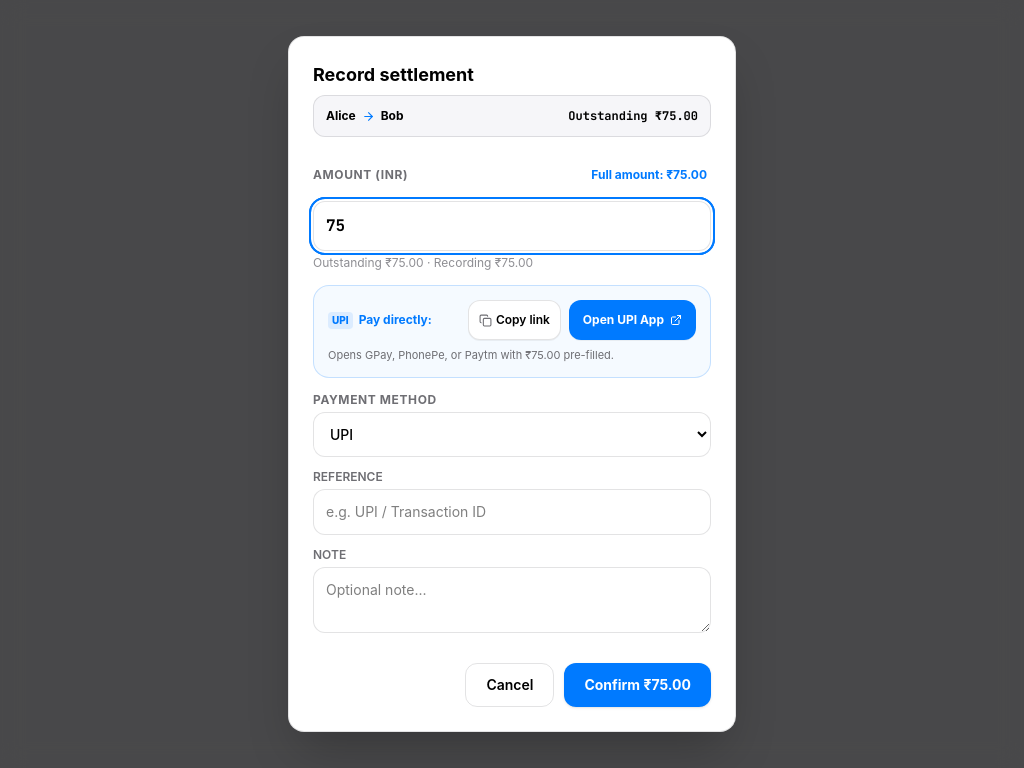
Test: SettlementDialog Interactive Tests › clicking 'Full amount' button restores full outstanding value and clears errors
Note: Trigger error
Clear the field labelled "Amount (INR)" at (512, 226), box [313,201,711,251]
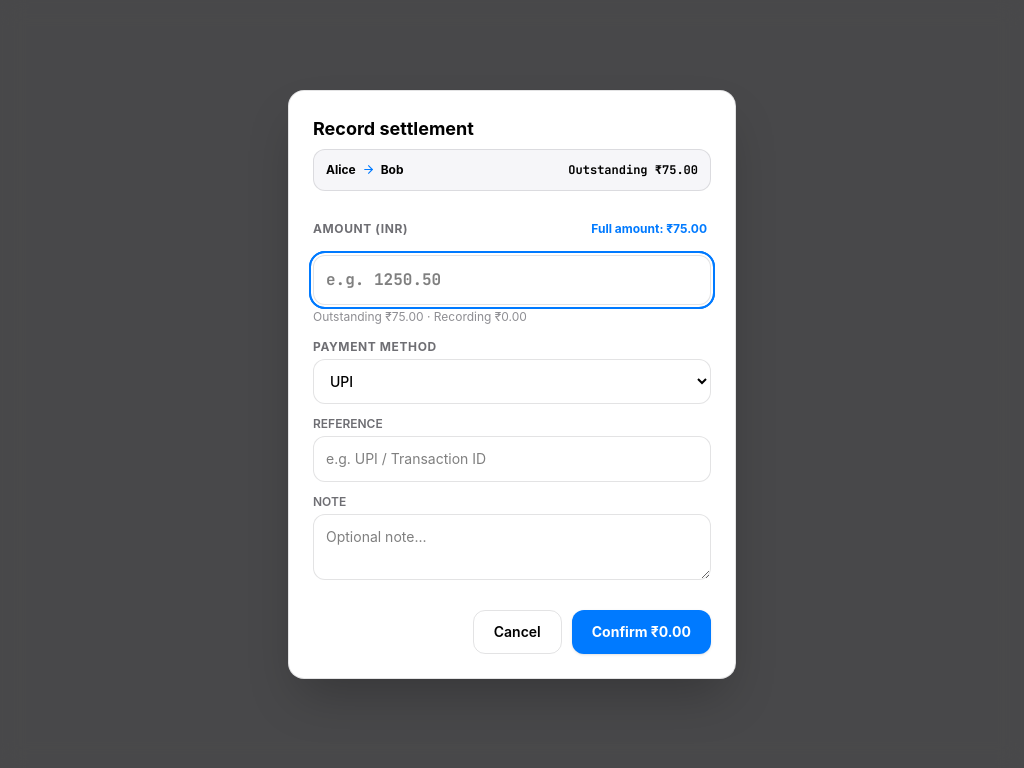
Type "200.00" into the field labelled "Amount (INR)" at (512, 280), box [313,254,711,304]
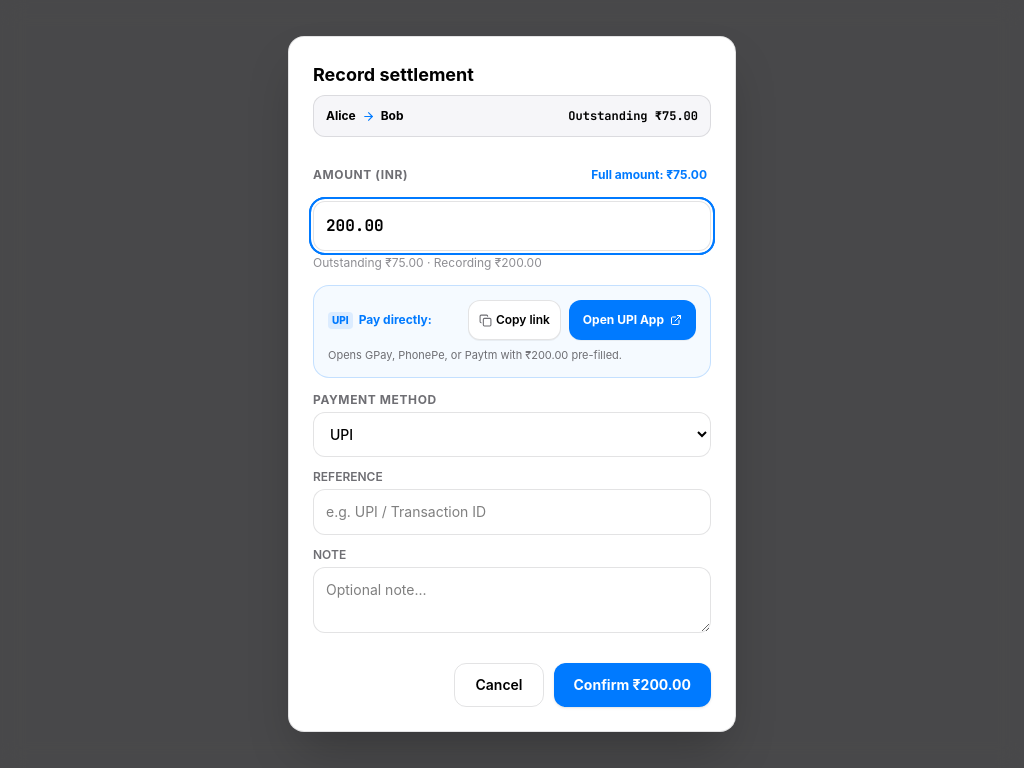
Click the button "Confirm ₹200.00" at (632, 685), box [554,663,711,707]
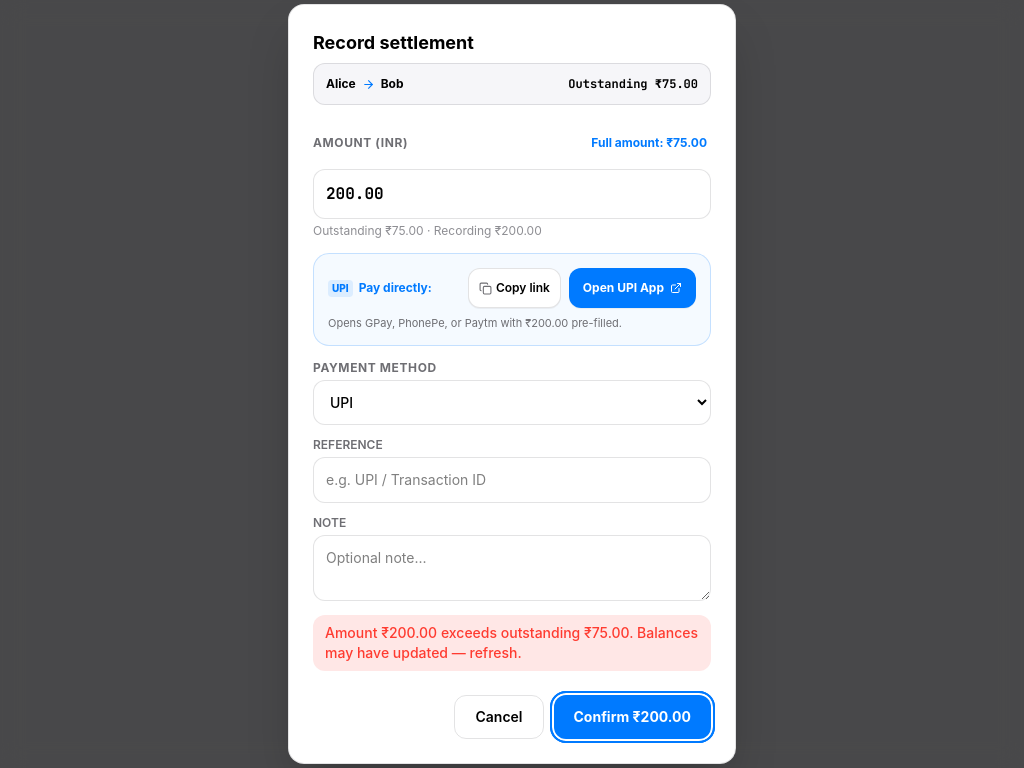
Result: the text "exceeds outstanding" is shown at [325,624,698,661]
Note: Click full amount button
Click the button "Full amount: ₹75.00" at (649, 143), box [587,121,711,165]
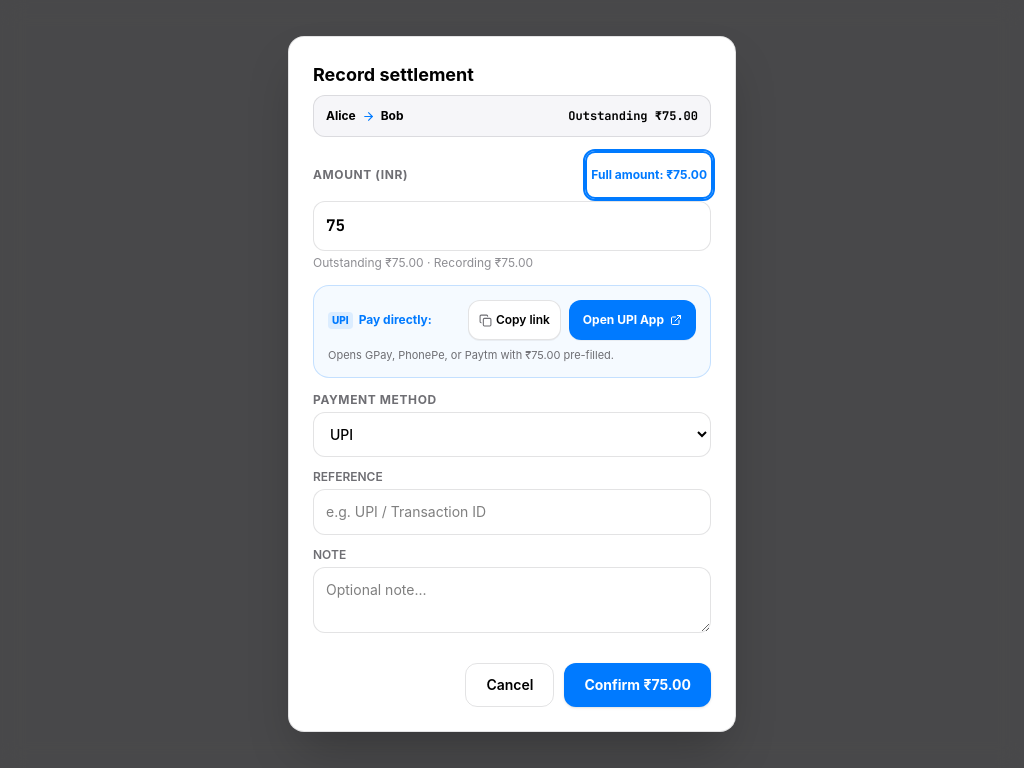
Result: the field labelled "Amount (INR)" holds "75" at [313,201,711,251]
Result: the text "exceeds outstanding" is gone
